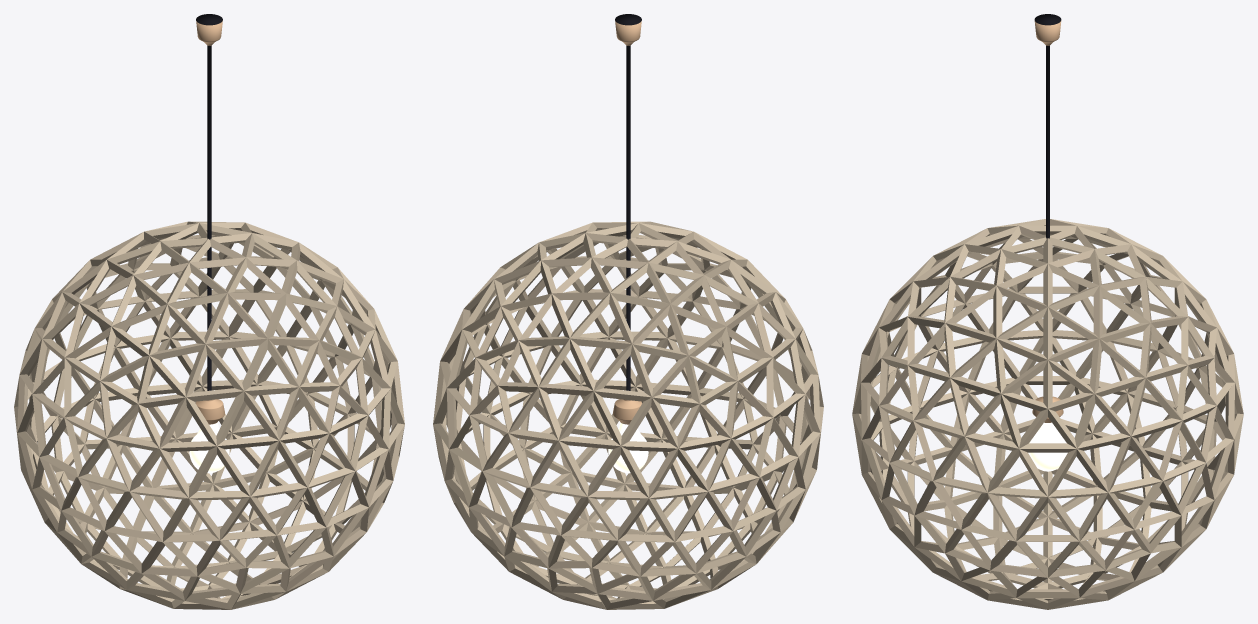
Rendered from roomlight-modern-plastic-style-dd58bb.glb.
The picture shows the model from 3 angles, left to right: view 1: azimuth 30°, elevation 25°; view 2: azimuth 150°, elevation 25°; view 3: azimuth 270°, elevation 25°; orthographic projection.
Parts seen in each view (by area): view 1: PropMesh; view 2: PropMesh; view 3: PropMesh.
Boxes of the visible parts, x1,y1,x2,y2 form: PropMesh: (14,14,404,609); PropMesh: (433,14,823,609); PropMesh: (852,14,1243,609).
Bounding box in the file's own units: 1.37 × 2.2 × 1.37.
